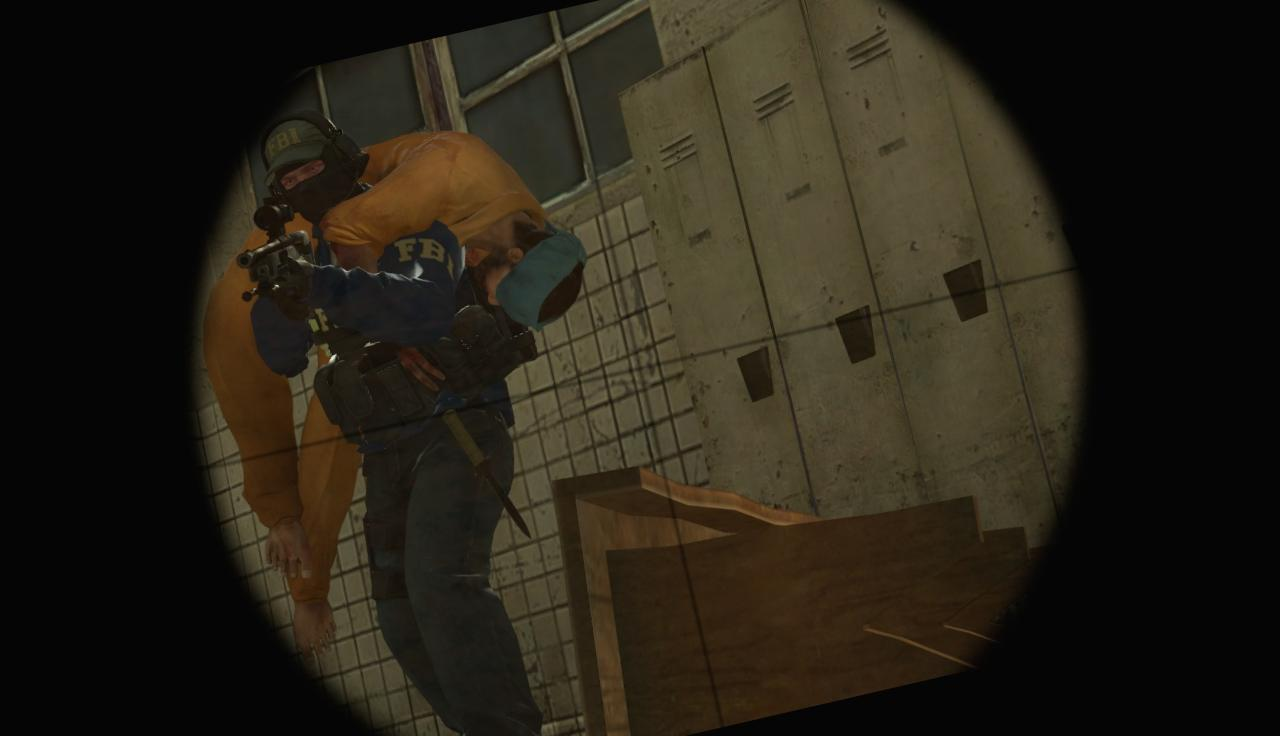ct: (232, 75, 595, 736)
cthead: (251, 105, 377, 234)
